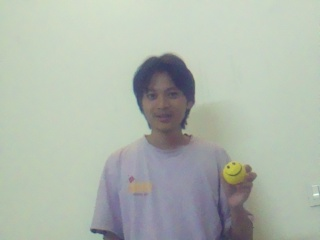ball: (223, 161, 246, 184)
